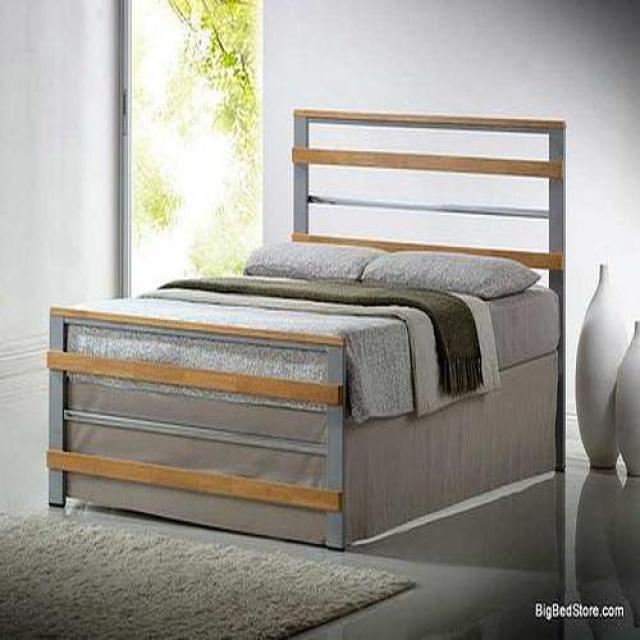bed: (45, 110, 564, 552)
